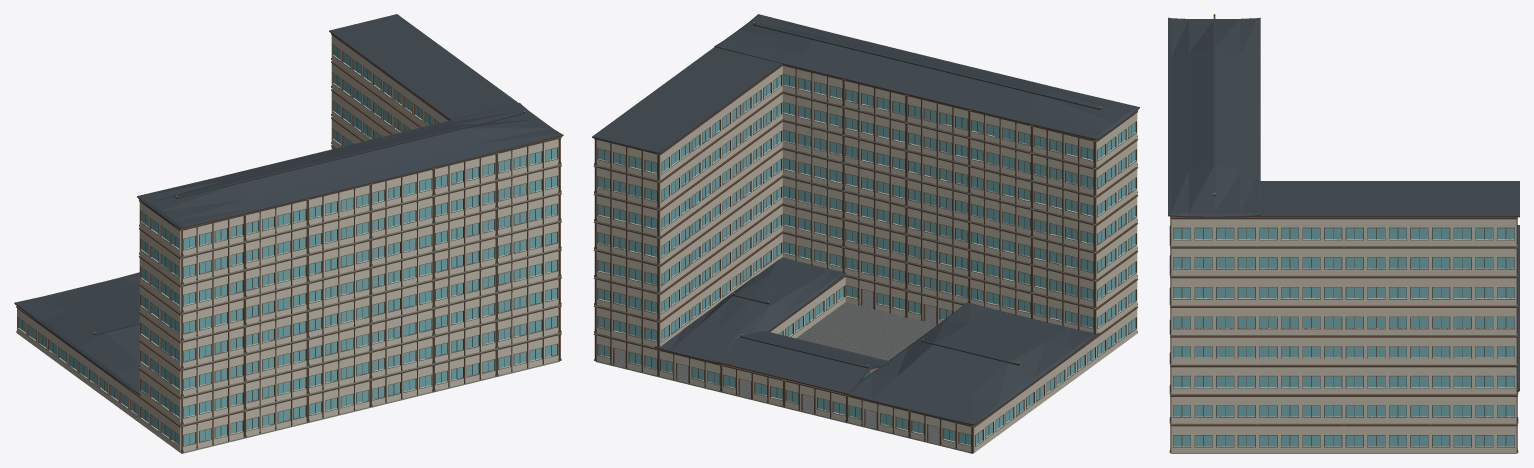
3 renders of one model, left to right at view 1: azimuth 30°, elevation 25°; view 2: azimuth 150°, elevation 25°; view 3: azimuth 270°, elevation 25°, orthographic. The views are drawn at different scales.
Visible parts, largest first — view 1: 参数墙 · 独立窗玻璃 (×66), 连续屋面 · hip (×2), 连续屋面 · flat; view 2: 参数墙 · 独立窗玻璃 (×76), 连续屋面 · hip (×3), 参数墙 · 通行门洞 (×8), 连续屋面 · flat, 连续屋面 · gable, 石铺面与混凝土楼板 (×3); view 3: 参数墙 · 独立窗玻璃 (×32), 连续屋面 · hip, 连续屋面 · flat.
Part boxes in pixels (x1,y1,x2,y2): 参数墙 · 独立窗玻璃 (×66): (16,33,559,452); 连续屋面 · hip (×2): (14,102,563,396); 连续屋面 · flat: (329,14,517,120); 参数墙 · 独立窗玻璃 (×76): (596,64,1137,452); 连续屋面 · hip (×3): (655,14,1139,426); 参数墙 · 通行门洞 (×8): (596,275,971,451); 连续屋面 · flat: (592,47,782,154); 连续屋面 · gable: (718,330,889,394); 石铺面与混凝土楼板 (×3): (796,302,936,354); 参数墙 · 独立窗玻璃 (×32): (1171,217,1516,453); 连续屋面 · hip: (1168,14,1260,217); 连续屋面 · flat: (1255,181,1519,217).
Size of the model in its own units: 60 by 35.88 by 45.2.
Materials: 18 (18 with a texture image).
